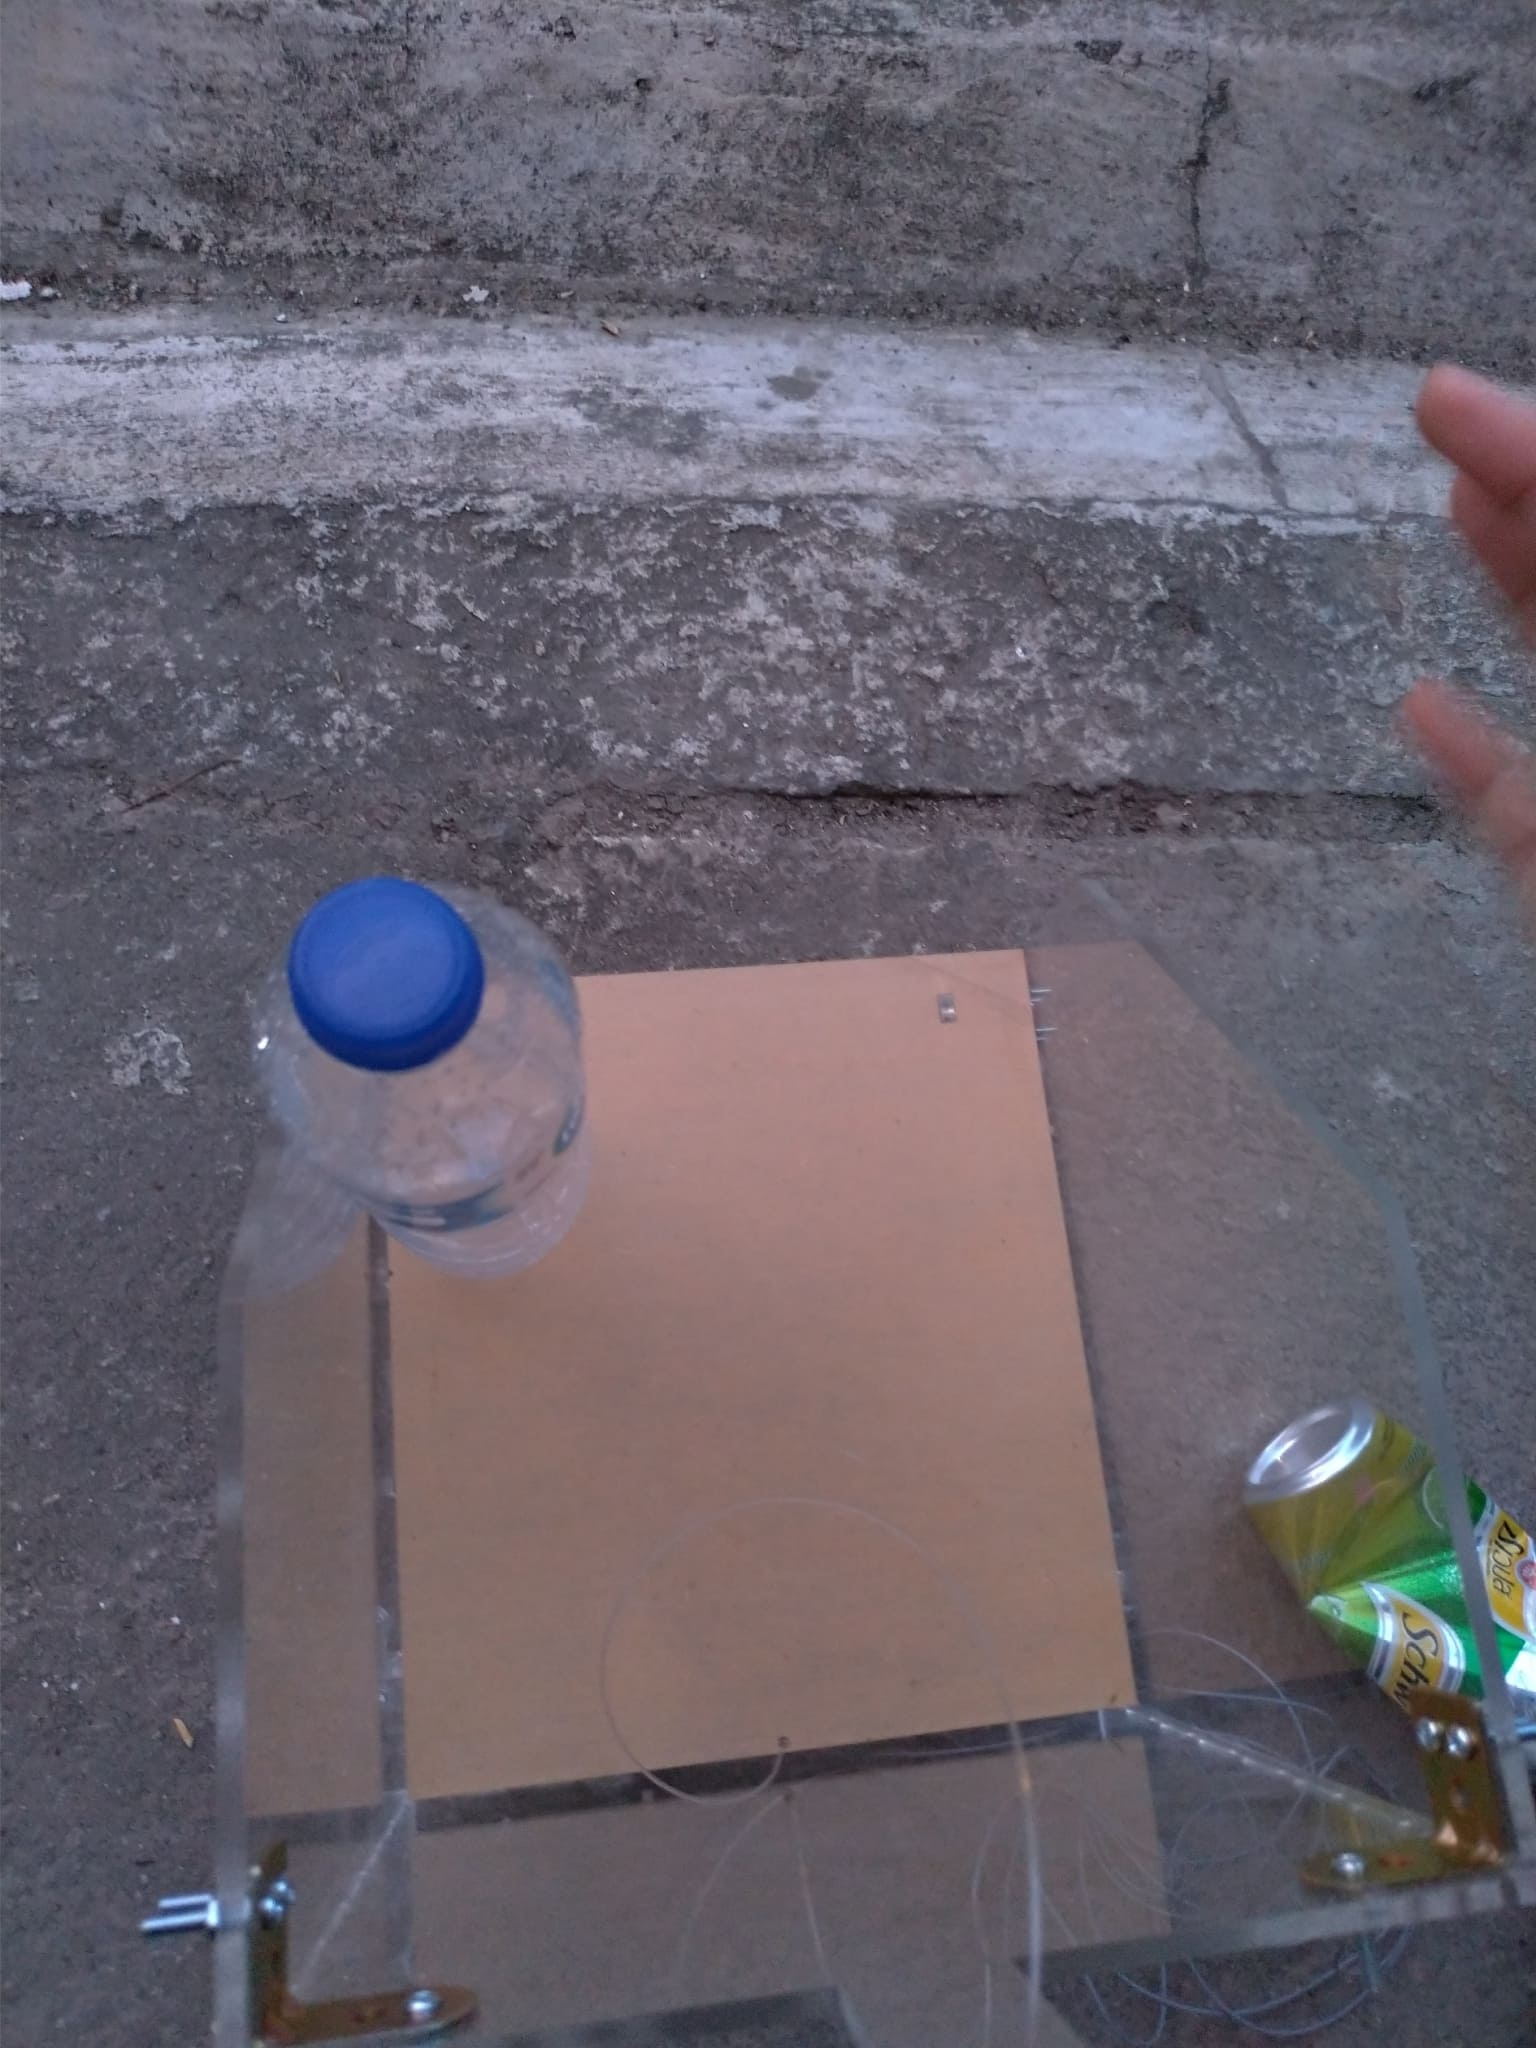AlCan: (1244, 1406, 1536, 1748)
PlasticBottle: (253, 880, 615, 1293)
